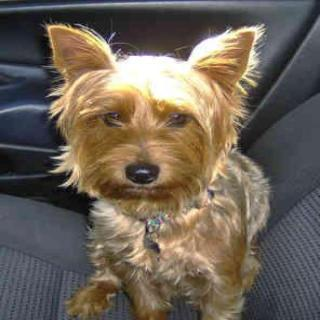dog: (37, 10, 255, 212)
nose: (119, 153, 163, 185)
